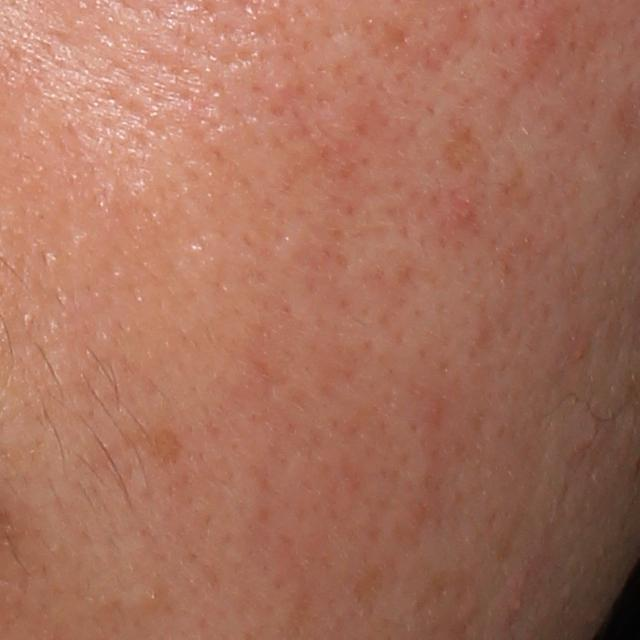papule: (450, 200, 483, 228)
